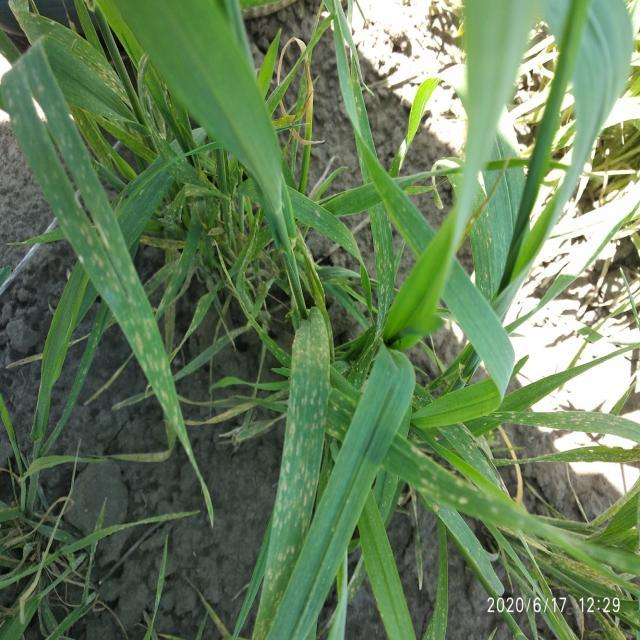wheat-powdery-mildew: (0, 44, 214, 528), (252, 309, 333, 640)
